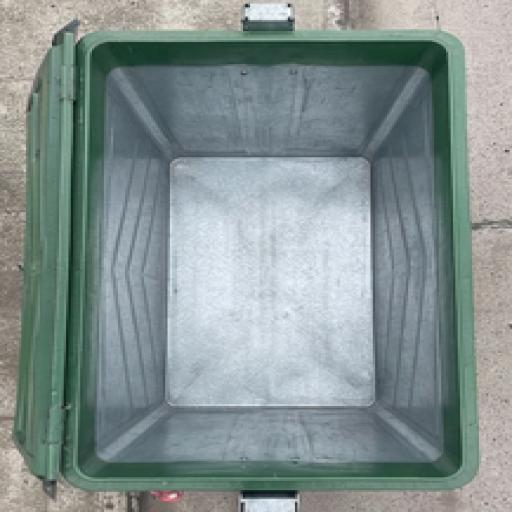Contenedor_Vacio: (14, 5, 477, 496)
